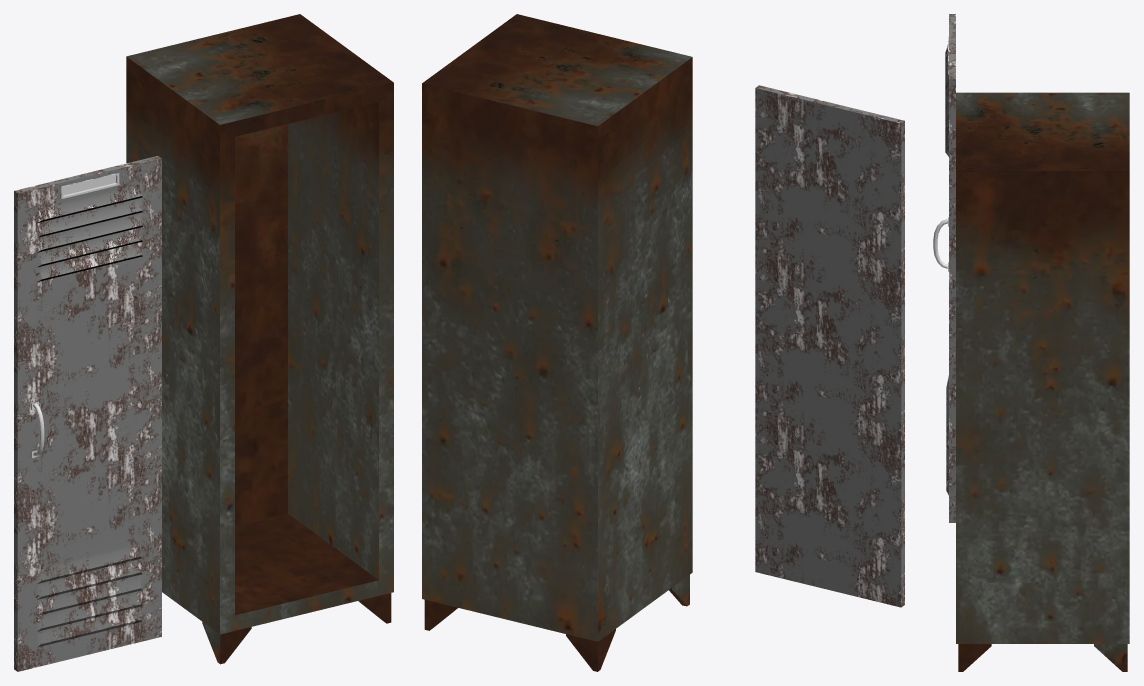
Rendered from locker_rusty_open.glb.
The picture shows the model from 3 angles, left to right: view 1: azimuth 30°, elevation 25°; view 2: azimuth 150°, elevation 25°; view 3: azimuth 270°, elevation 25°; orthographic projection. The views are drawn at different scales.
Visible parts, largest first — view 1: Body_Rust metal_0, door_Rusty metal_0, door_Material.002_0, door_Old metal.002_0; view 2: Body_Rust metal_0, door_Rusty metal_0; view 3: Body_Rust metal_0, door_Rusty metal_0.
Part boxes in pixels (bbox=[...]): Body_Rust metal_0: bbox=[126, 14, 393, 664]; door_Rusty metal_0: bbox=[14, 156, 161, 671]; door_Material.002_0: bbox=[37, 196, 142, 281]; door_Old metal.002_0: bbox=[31, 173, 119, 457]; Body_Rust metal_0: bbox=[422, 14, 692, 671]; door_Rusty metal_0: bbox=[755, 85, 904, 607]; Body_Rust metal_0: bbox=[956, 92, 1129, 671]; door_Rusty metal_0: bbox=[945, 14, 955, 522].
Size of the model in its own units: 1.36 by 1.85 by 0.6569.
Materials: 4 (2 with a texture image).
